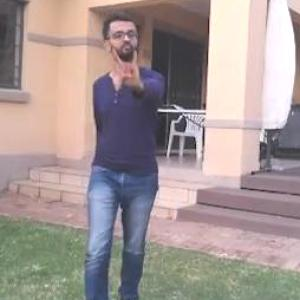takeoff-hand: (105, 41, 149, 97)
